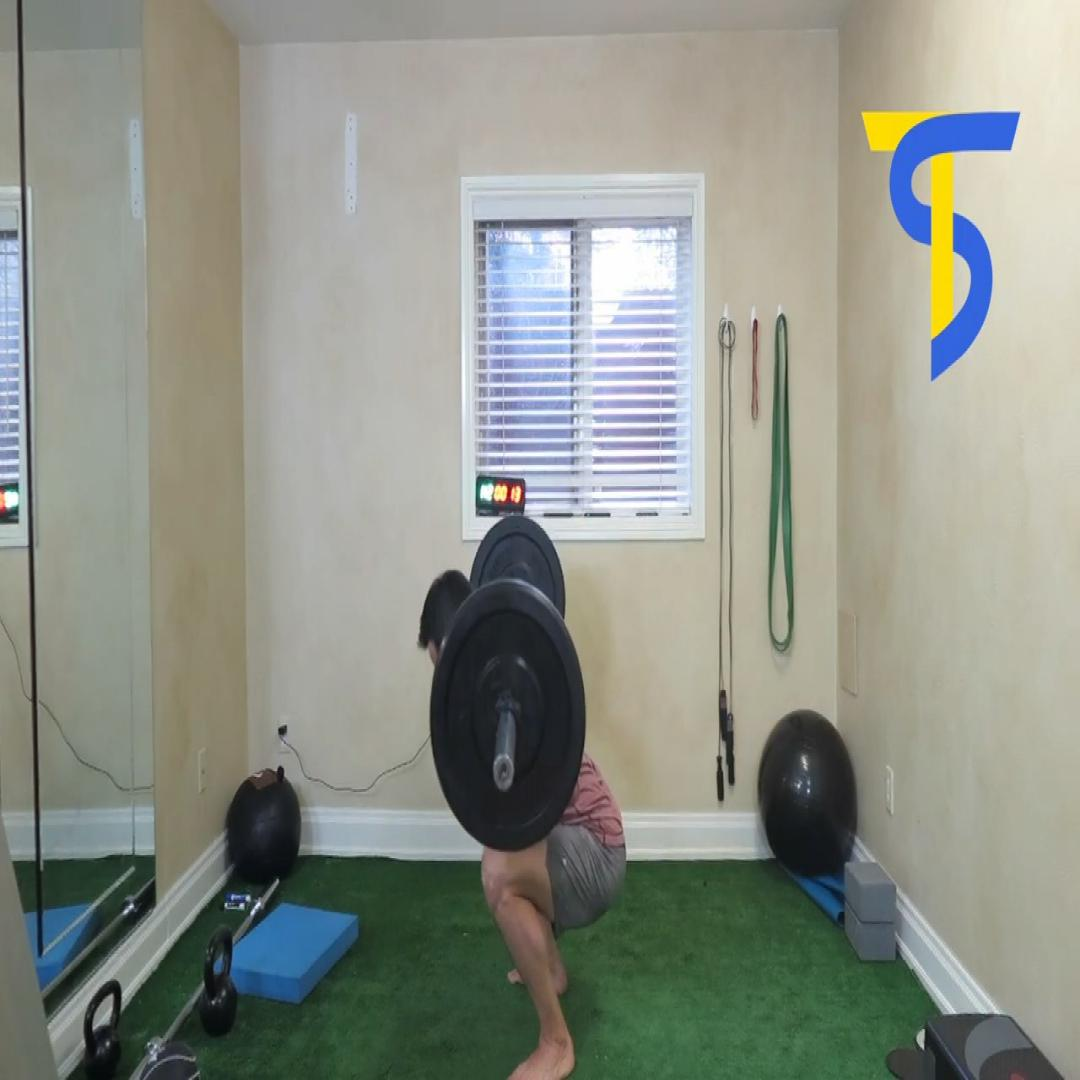Bar: (493, 753, 514, 792)
Barbell: (428, 579, 586, 852)
